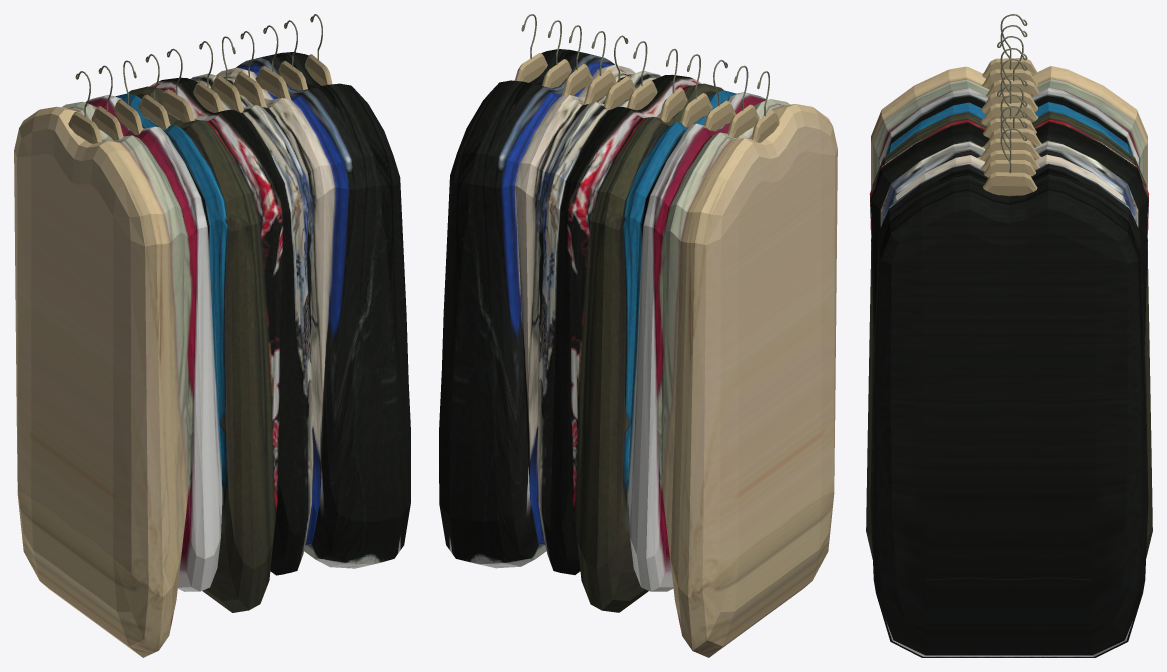
File: hanging-clothes2.obj
3 views of the same model, side by side, from view 1: azimuth 30°, elevation 25°; view 2: azimuth 150°, elevation 25°; view 3: azimuth 270°, elevation 25° (orthographic).
Visible parts, largest first — view 1: Jen_clothes, Jen_hangers_1; view 2: Jen_clothes, Jen_hangers_1; view 3: Jen_clothes, Jen_hangers_1.
Part boxes in pixels (<box>): Jen_clothes: <box>14,52,410,657</box>; Jen_hangers_1: <box>68,14,332,143</box>; Jen_clothes: <box>439,49,837,657</box>; Jen_hangers_1: <box>515,14,779,142</box>; Jen_clothes: <box>866,66,1152,657</box>; Jen_hangers_1: <box>977,14,1041,196</box>.
Bounding box in the file's own units: 62.07 × 116 × 54.4.
Materials: 3 (1 with a texture image).
